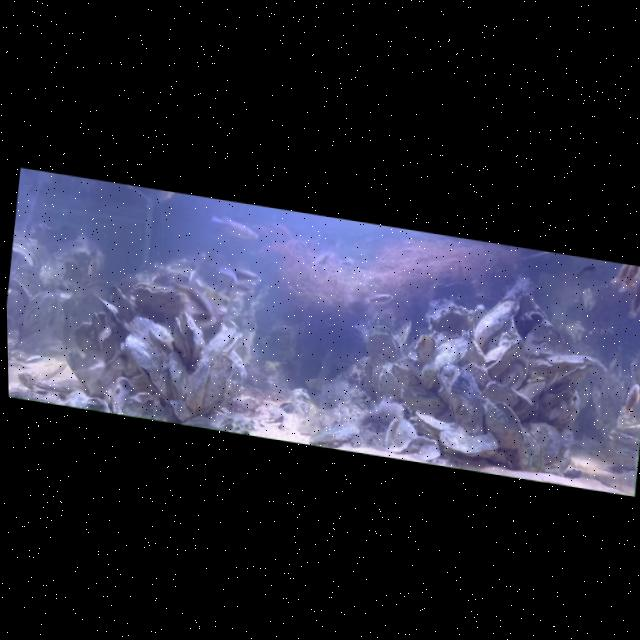Oyster-Closed: (119, 313, 179, 401), (430, 359, 492, 435), (418, 330, 469, 395), (472, 291, 521, 353), (436, 423, 499, 462), (519, 418, 565, 466), (482, 330, 523, 382), (205, 352, 235, 416), (32, 371, 93, 401), (181, 355, 212, 412), (513, 426, 549, 473), (163, 350, 193, 405), (413, 409, 467, 439), (397, 388, 447, 417), (456, 327, 490, 367), (94, 296, 126, 328)
Oyster-Indeterminate: (18, 284, 59, 346), (66, 319, 108, 373), (528, 346, 595, 378), (549, 357, 593, 401), (427, 300, 476, 339), (221, 350, 249, 410), (106, 283, 142, 325), (495, 349, 531, 390), (61, 345, 97, 384), (6, 276, 33, 325), (459, 359, 494, 394), (149, 263, 190, 292), (482, 378, 520, 409), (404, 434, 443, 464), (107, 375, 134, 415), (515, 372, 549, 403), (411, 331, 438, 365), (388, 363, 421, 387)
Oyster-Open: (476, 394, 530, 452), (131, 279, 188, 319), (170, 309, 209, 362), (361, 321, 405, 367), (381, 416, 420, 456), (205, 323, 243, 360), (9, 241, 41, 274), (276, 396, 300, 415)
